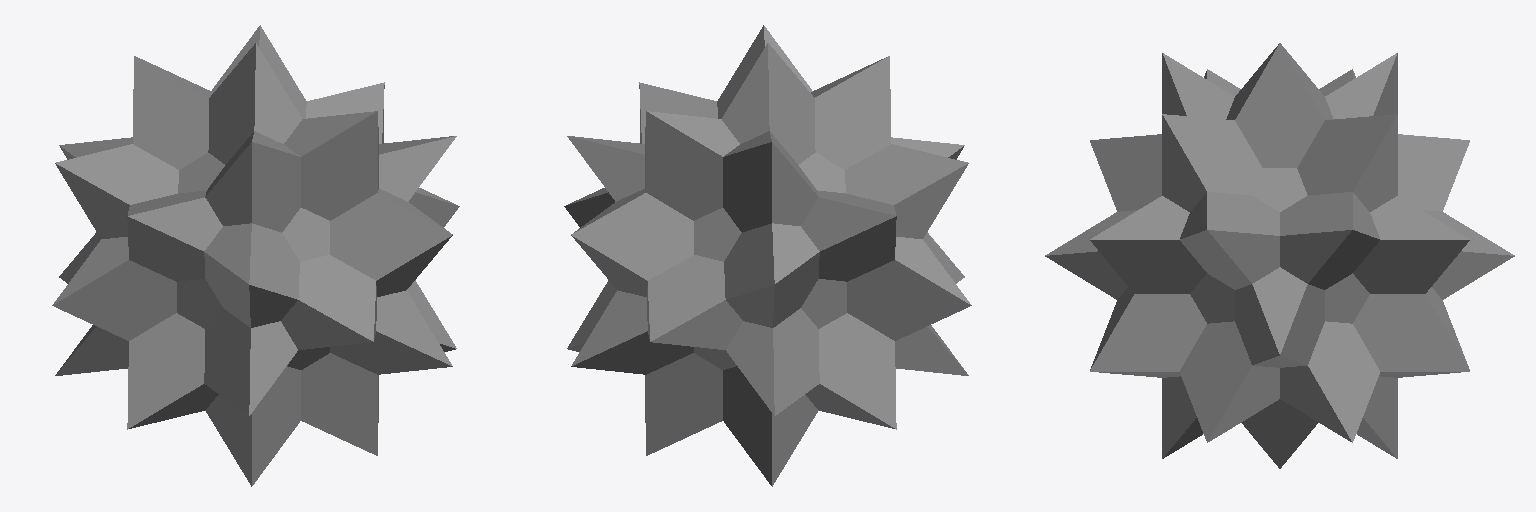
File: light.obj
The picture shows the model from 3 angles: view 1: azimuth 30°, elevation 25°; view 2: azimuth 150°, elevation 25°; view 3: azimuth 270°, elevation 25°; orthographic projection.
Parts seen in each view (by area): view 1: Hedra001; view 2: Hedra001; view 3: Hedra001.
Part boxes in pixels (left/top/right/bottom): Hedra001: left=52, top=25, right=459, bottom=486; Hedra001: left=564, top=25, right=971, bottom=486; Hedra001: left=1045, top=43, right=1514, bottom=468.
Size of the model in its own units: 1 by 1 by 1.